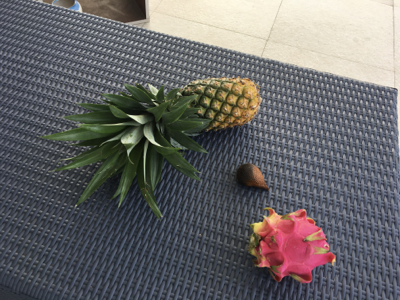dragon fruit: (249, 209, 336, 286)
pineapple: (42, 78, 264, 215)
snake fruit: (237, 164, 270, 194)
